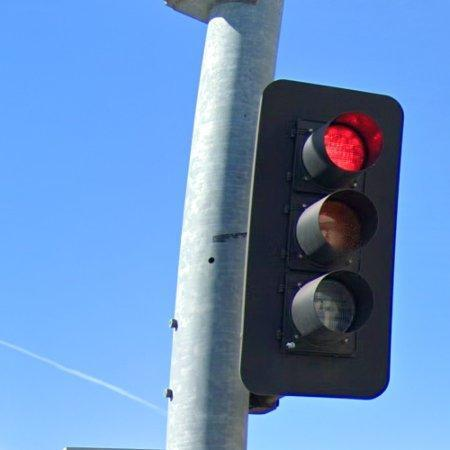traffic lights: (238, 78, 405, 400)
